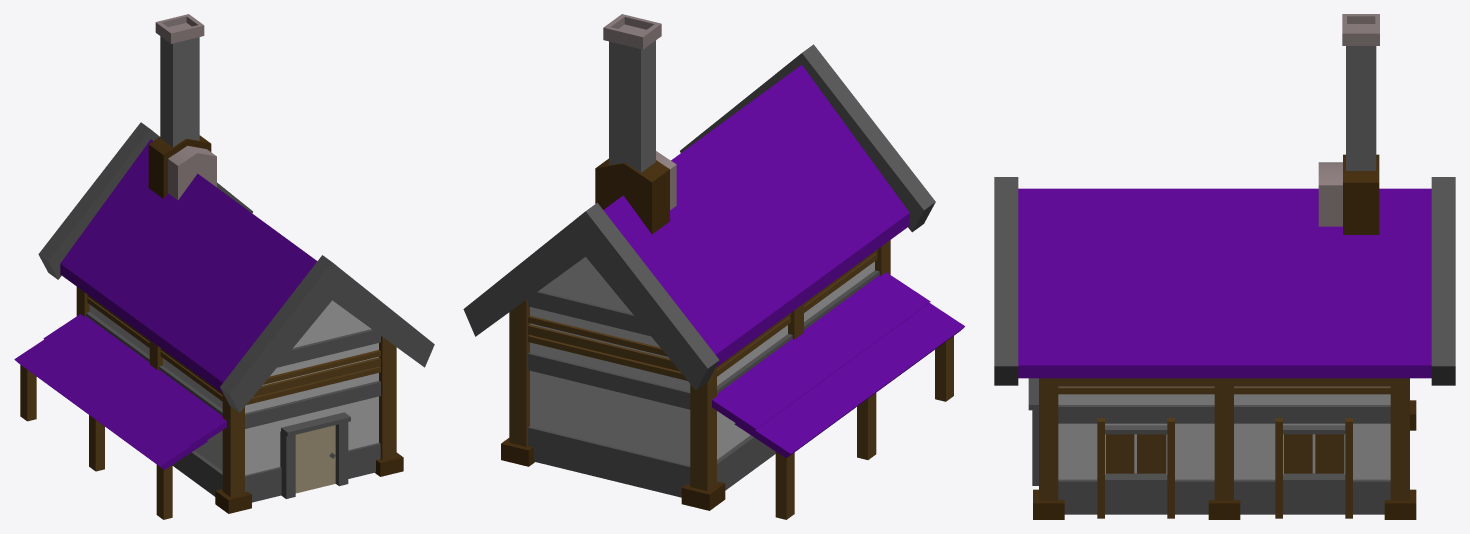
File: Mesh_Royal_Hos_2.fbx
3 renders of one model, left to right at view 1: azimuth 30°, elevation 25°; view 2: azimuth 150°, elevation 25°; view 3: azimuth 270°, elevation 25°, orthographic. The views are drawn at different scales.
Visible parts, largest first — view 1: Royal_Hos_2; view 2: Royal_Hos_2; view 3: Royal_Hos_2.
Boxes of the visible parts, x1,y1,x2,y2 form: Royal_Hos_2: (14,14,434,519); Royal_Hos_2: (463,14,964,519); Royal_Hos_2: (994,14,1455,519).
Bounding box in the file's own units: 872 × 1220 × 1147.
